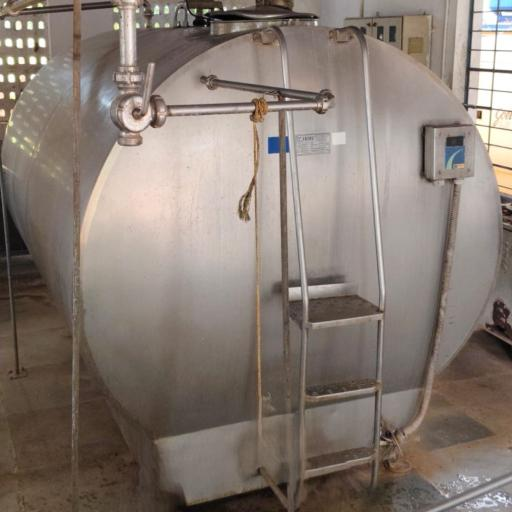silo: (1, 8, 504, 499)
